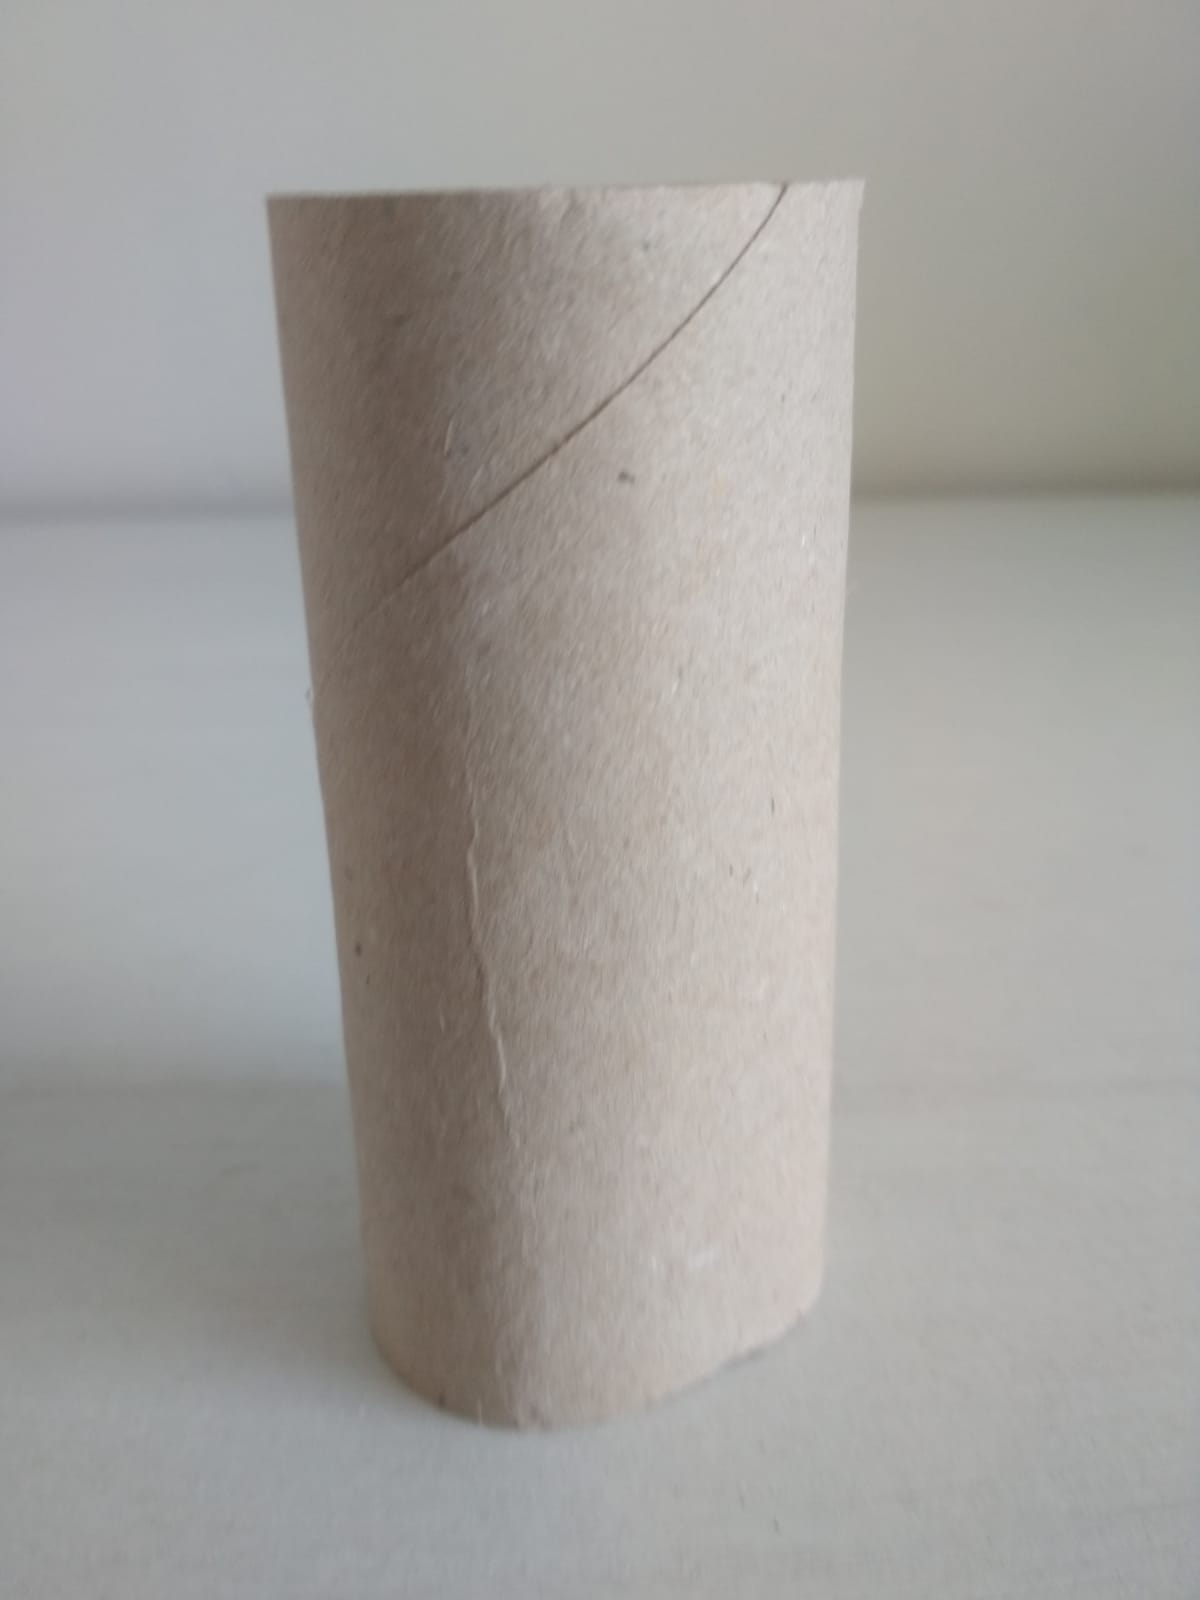rollo papel: (268, 169, 850, 1437)
